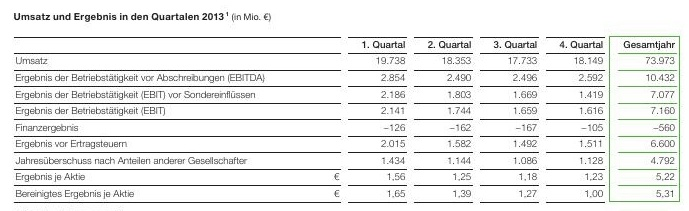table: (0, 0, 689, 211)
